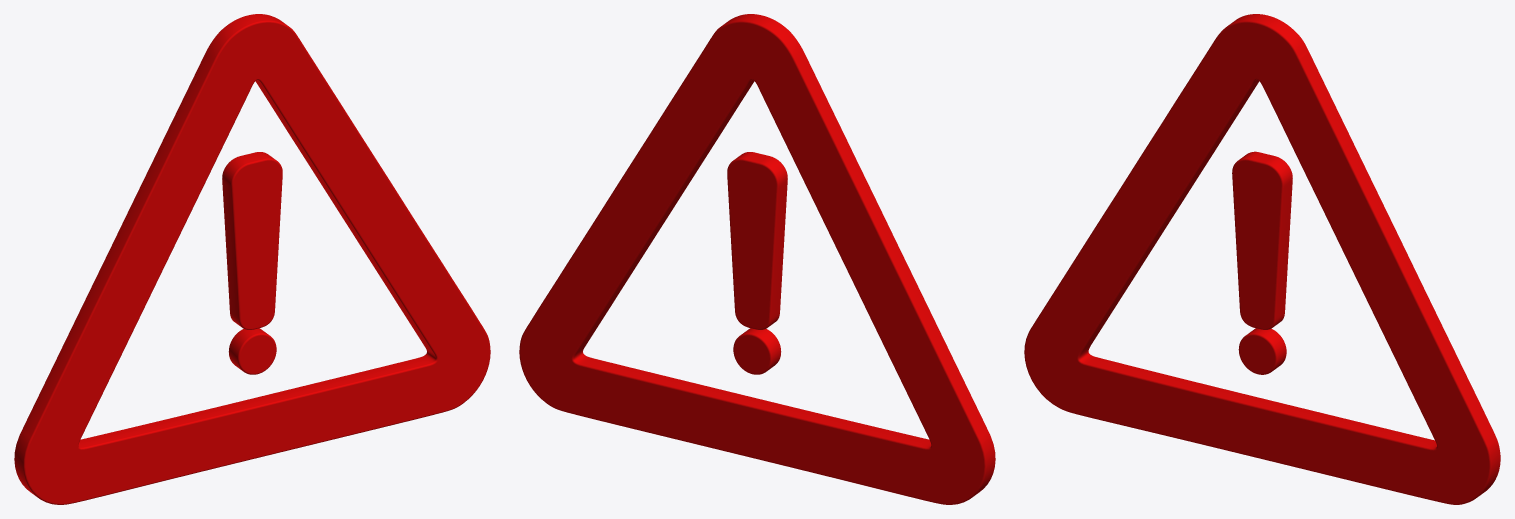
Rendered from Danger.fbx.
The picture shows the model from 3 angles, left to right: view 1: azimuth 30°, elevation 25°; view 2: azimuth 150°, elevation 25°; view 3: azimuth 330°, elevation 25°; orthographic projection.
Parts seen in each view (by area): view 1: Curve.020; view 2: Curve.020; view 3: Curve.020.
Boxes of the visible parts, x1,y1,x2,y2 form: Curve.020: (14, 14, 490, 504); Curve.020: (519, 14, 995, 504); Curve.020: (1024, 14, 1500, 504).
Size of the model in its own units: 6.96 by 6.21 by 0.2685.
